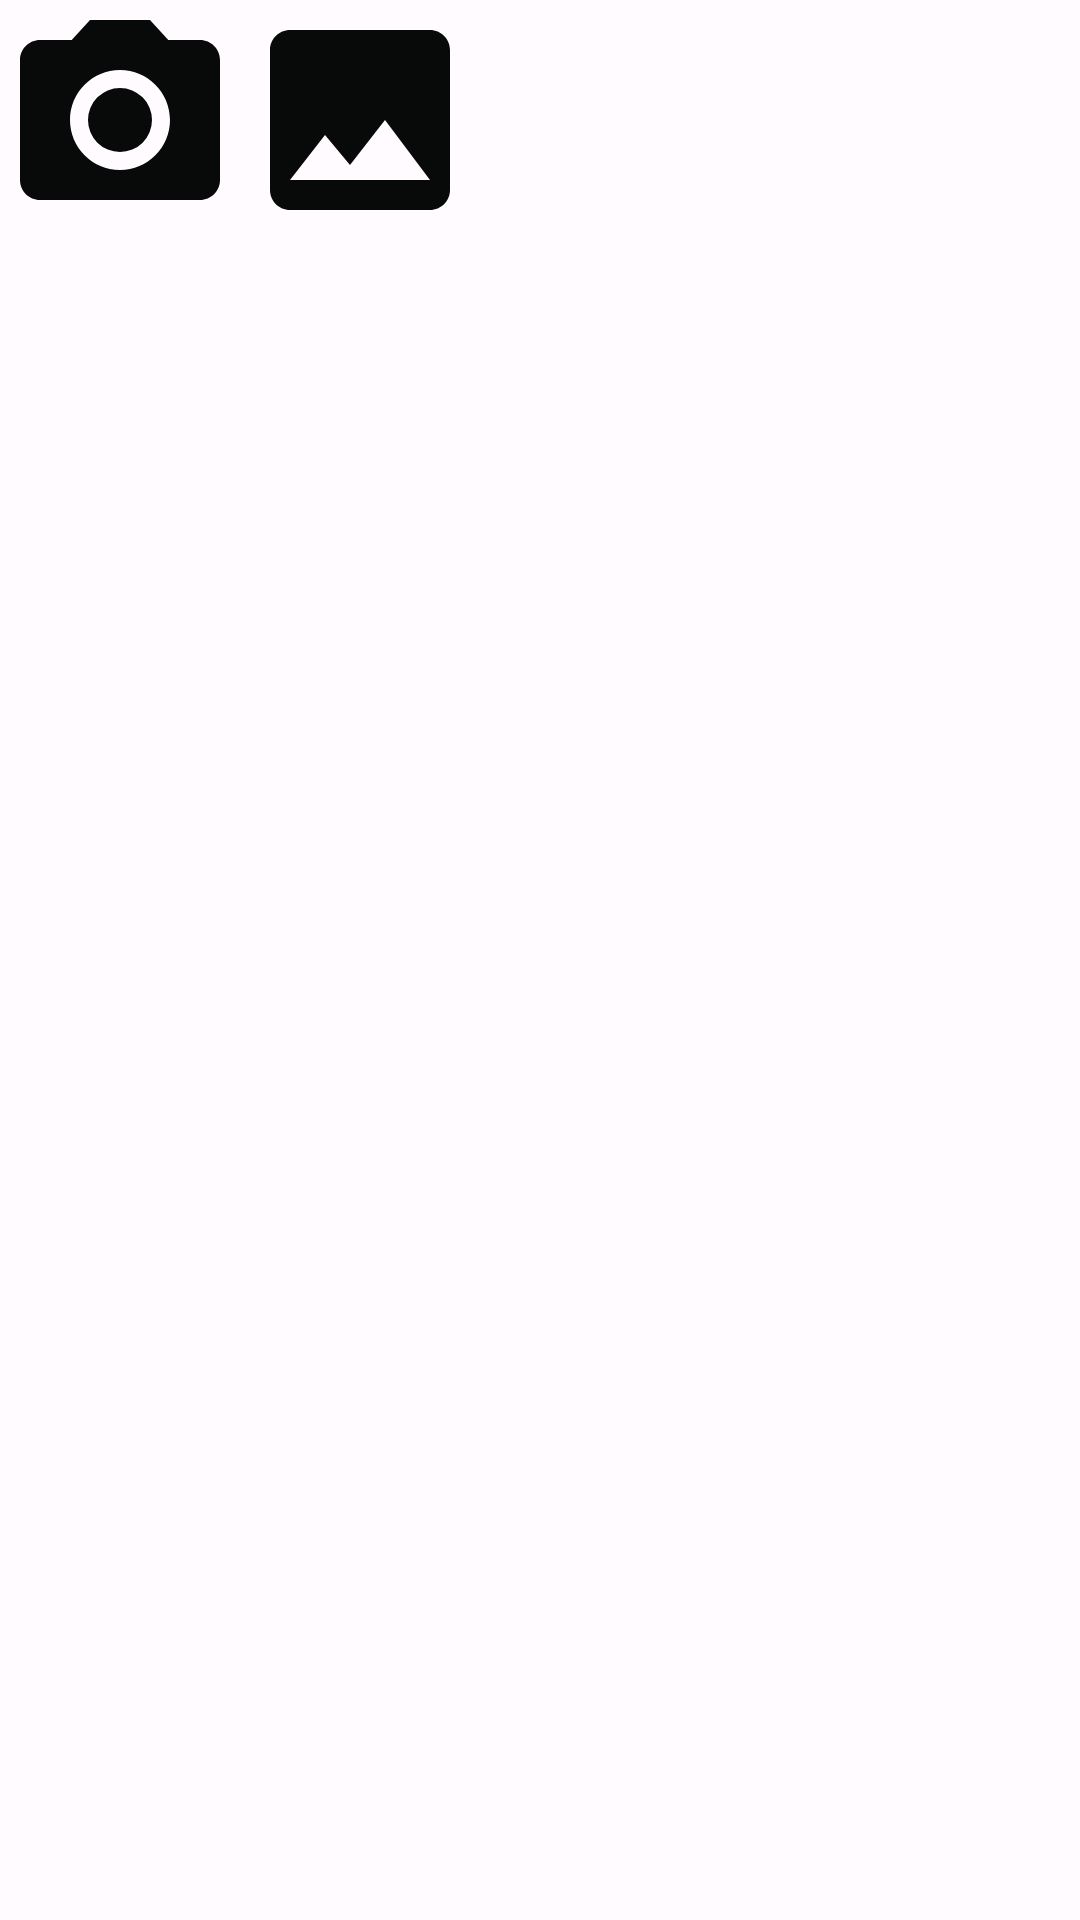

Named icons in this screenshot (1080 × 1920) and their bounding boxes, (x1, y1, x2, y2):
gallary: (270, 30, 450, 210)
